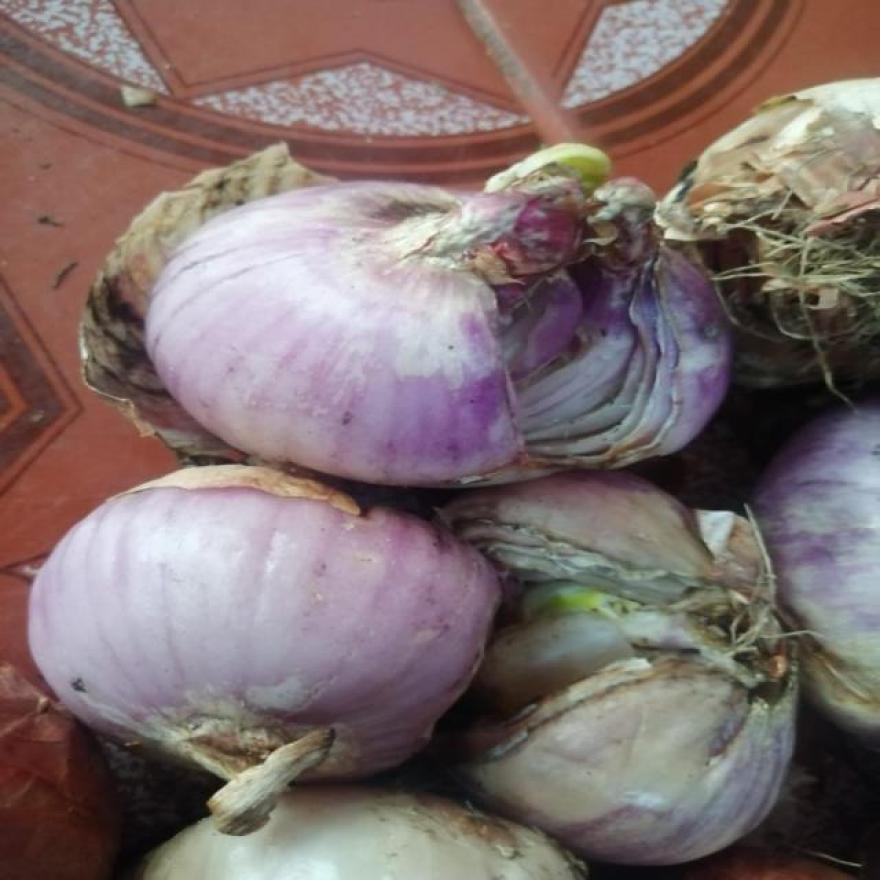Rotten: (490, 278, 670, 458), (112, 475, 413, 577), (467, 623, 691, 742), (766, 97, 872, 177)
